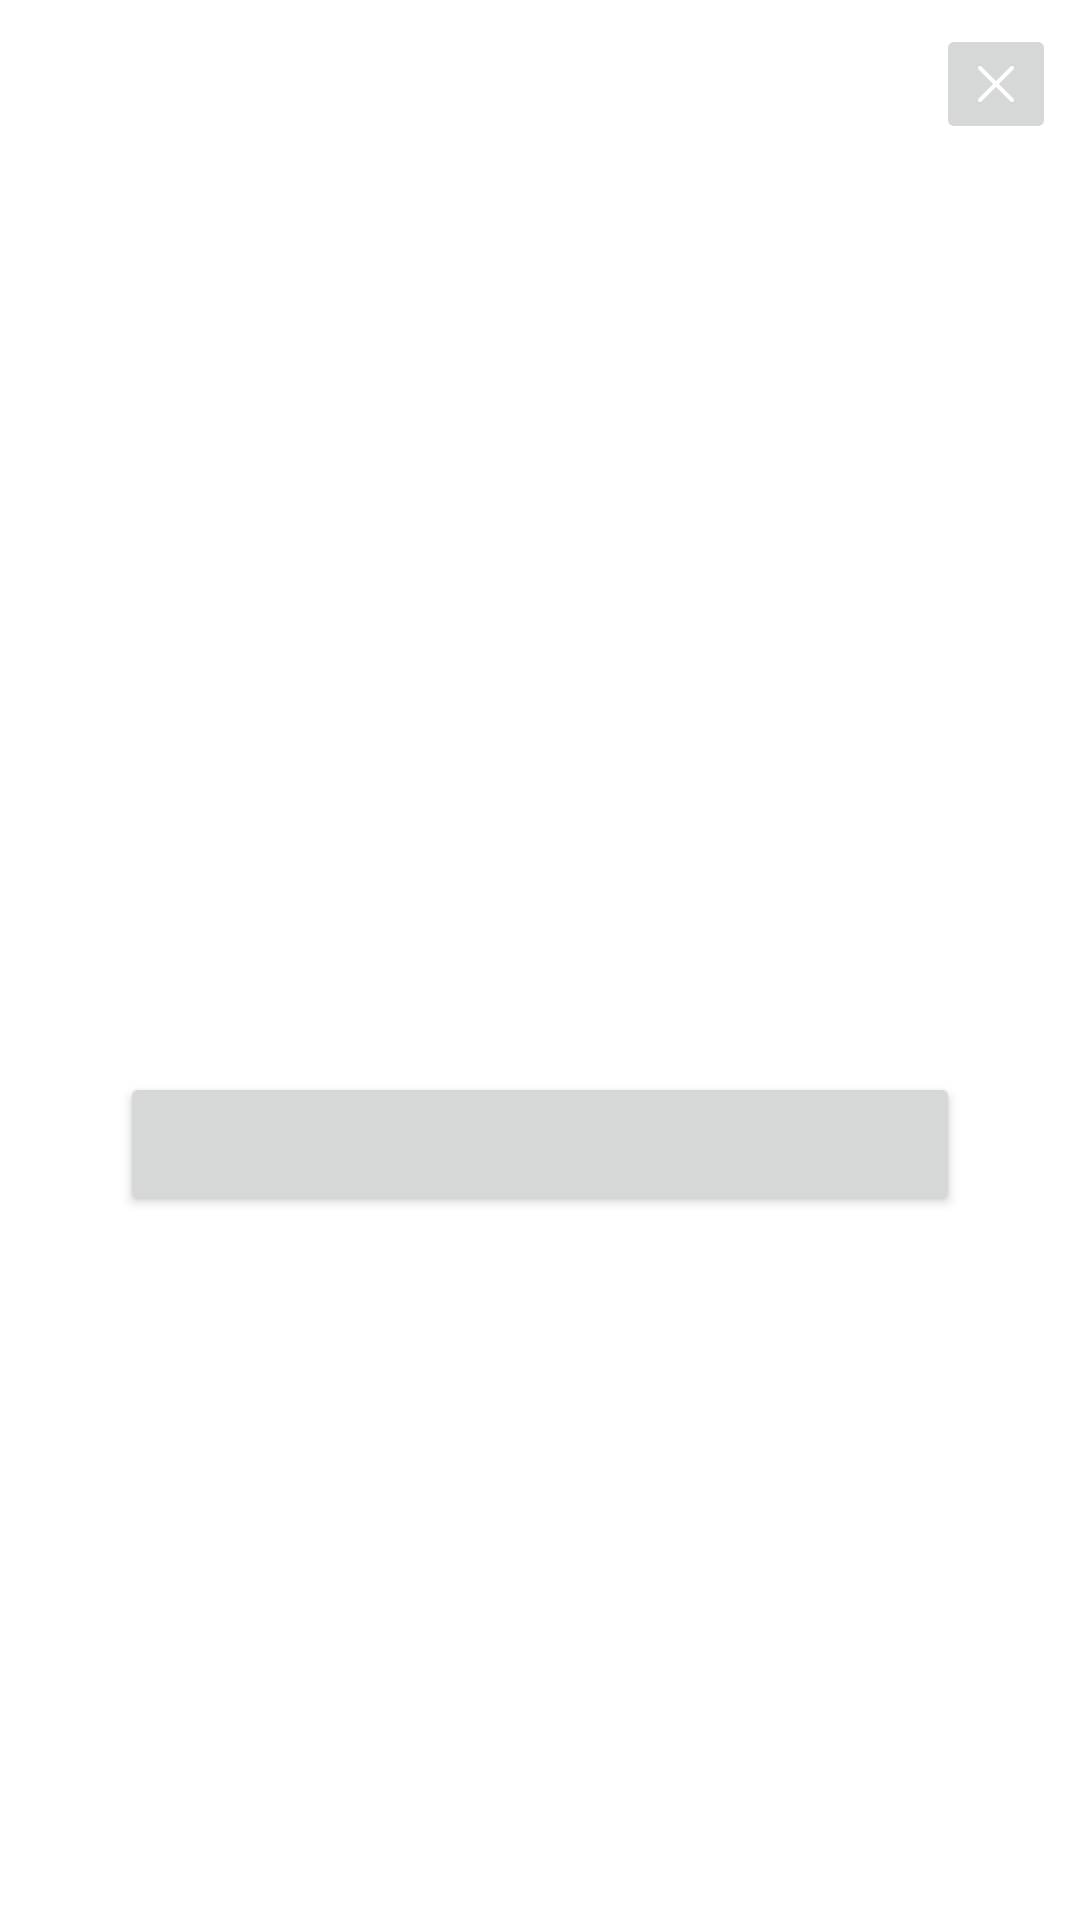

Icons on this 1080w x 1920h Android screen, each with the point to tap as [x,y]:
close: [996,84]
